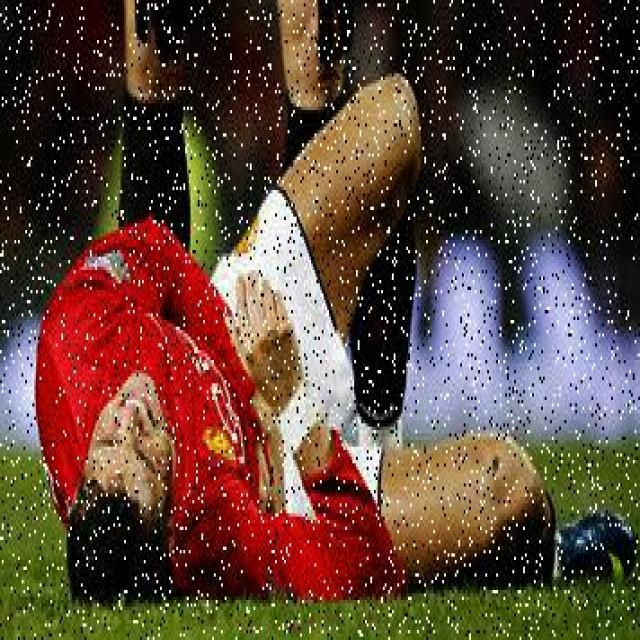fall: (54, 84, 586, 594)
